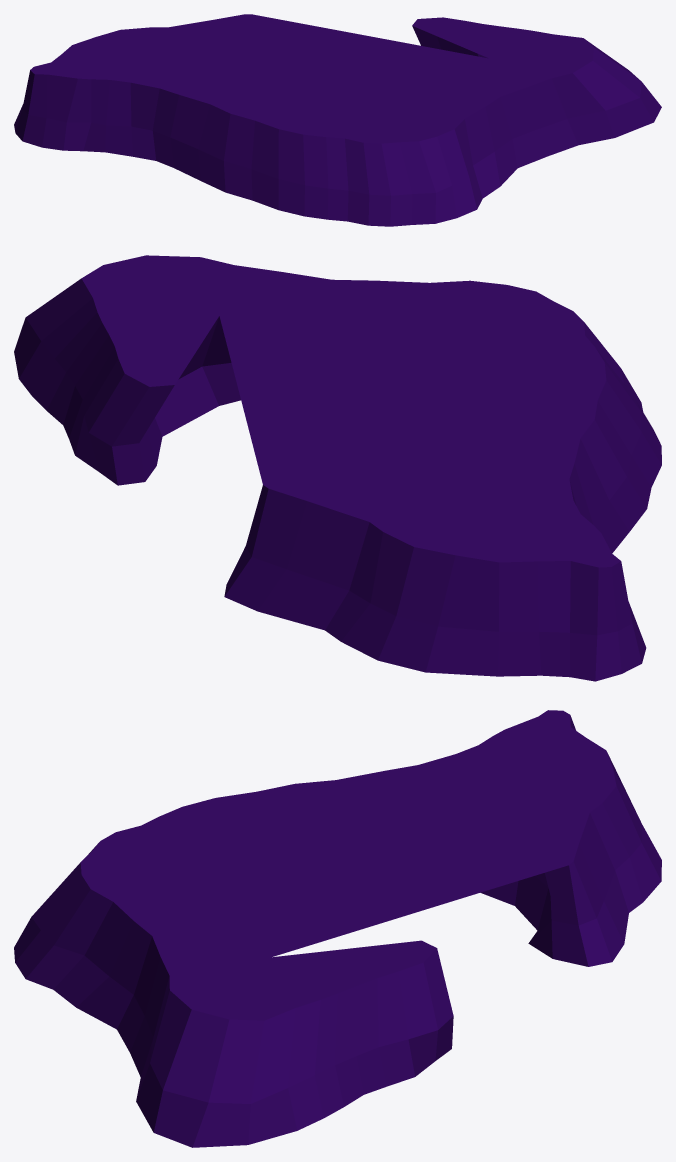
The model's file is MainObject.fbx.
3 views of the same model, one above another, from view 1: azimuth 30°, elevation 25°; view 2: azimuth 150°, elevation 25°; view 3: azimuth 270°, elevation 25° (orthographic). The views are drawn at different scales.
Parts seen in each view (by area): view 1: MainObject; view 2: MainObject; view 3: MainObject.
Boxes of the visible parts, box(x1,y1,x2,y2) form: MainObject: box(14, 14, 661, 226); MainObject: box(14, 255, 661, 681); MainObject: box(14, 710, 661, 1147).
Bounding box in the file's own units: 13.47 × 1.59 × 10.35.
